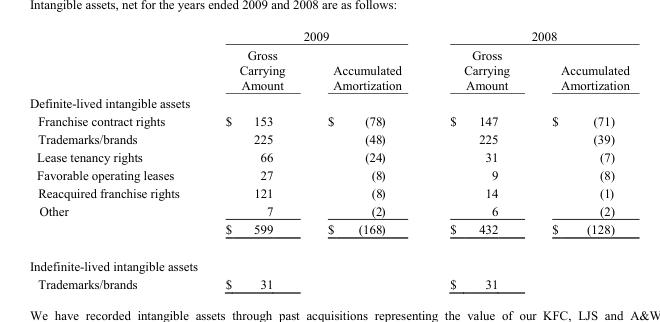table: (29, 28, 628, 290)
table column: (29, 28, 201, 290), (305, 28, 425, 290), (425, 28, 530, 290), (201, 28, 305, 290), (530, 28, 628, 290)
table column header: (29, 28, 628, 93)
table projected row header: (29, 246, 628, 274), (29, 93, 628, 111)
table row: (29, 45, 628, 93), (29, 246, 628, 274), (29, 219, 628, 246), (29, 93, 628, 111), (29, 111, 628, 129), (29, 129, 628, 147), (29, 147, 628, 165), (29, 165, 628, 183), (29, 183, 628, 201), (29, 201, 628, 219), (29, 28, 628, 45), (29, 274, 628, 290)
table spanning cell: (201, 28, 425, 45), (425, 28, 628, 45)
